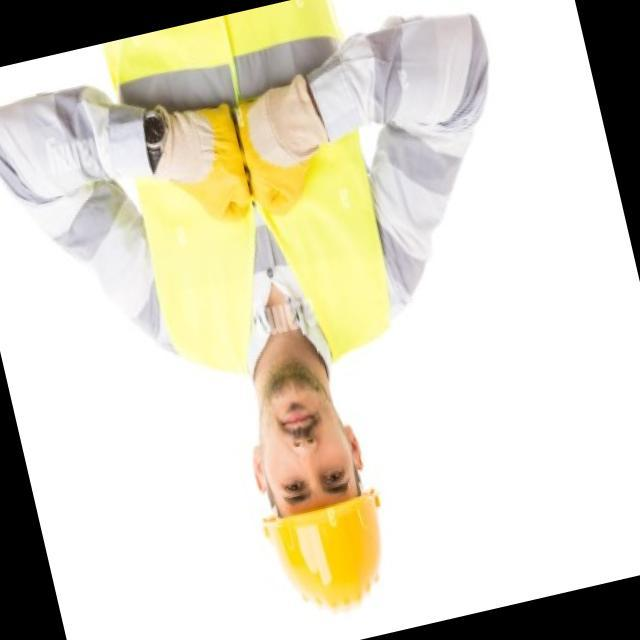gloved: (136, 77, 252, 246), (226, 64, 338, 218)
